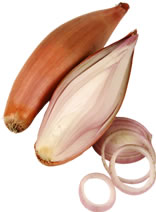onion: (4, 1, 155, 211)
